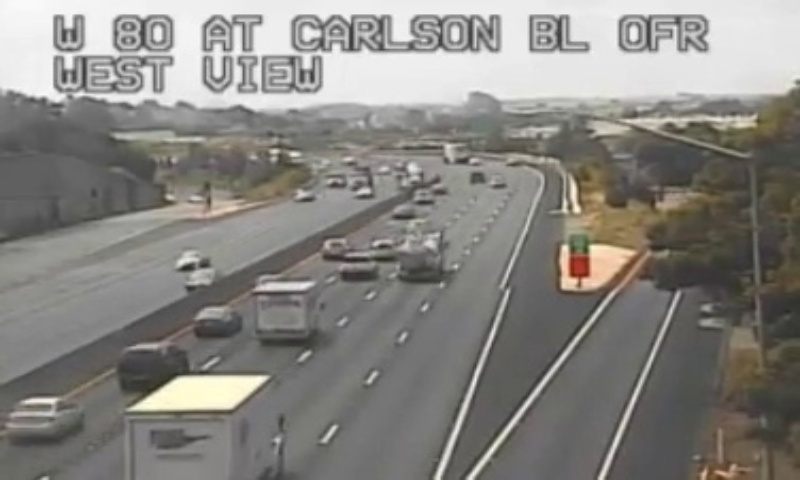car: (117, 342, 187, 387), (6, 396, 80, 438), (191, 306, 240, 333), (338, 251, 374, 277), (369, 238, 398, 261), (319, 236, 348, 258)
small-truck: (123, 371, 278, 480), (253, 281, 317, 337)
tank-truck: (397, 227, 446, 277)
